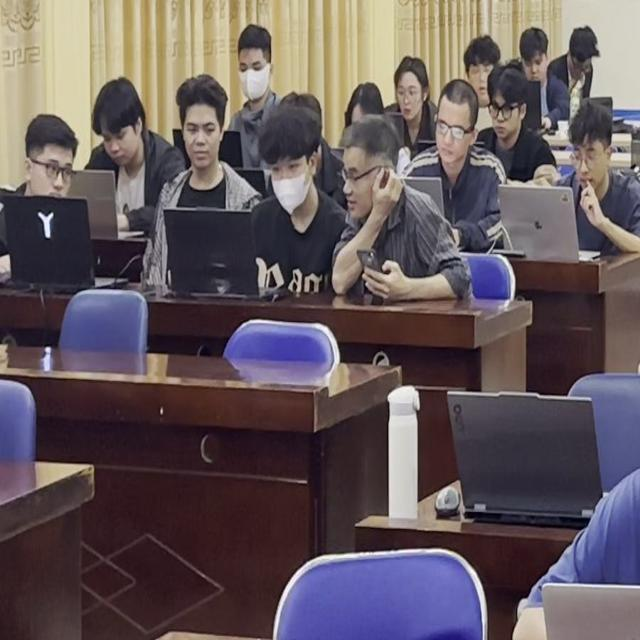Looking away: (172, 72, 235, 192), (336, 109, 400, 217), (260, 111, 325, 213), (24, 113, 87, 217), (90, 78, 156, 172), (484, 69, 537, 157), (436, 85, 476, 186), (568, 108, 612, 192), (386, 53, 430, 137), (236, 25, 284, 101), (460, 31, 497, 100), (570, 16, 601, 80), (520, 31, 554, 76)
